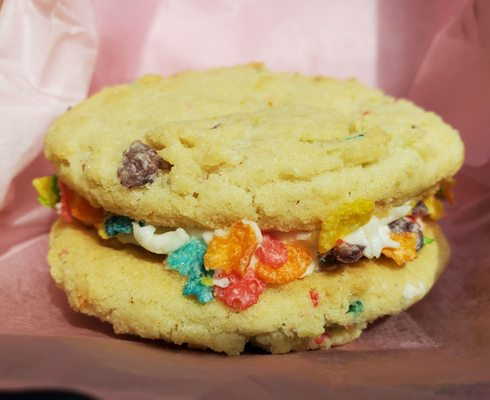soup: (38, 66, 454, 357)
